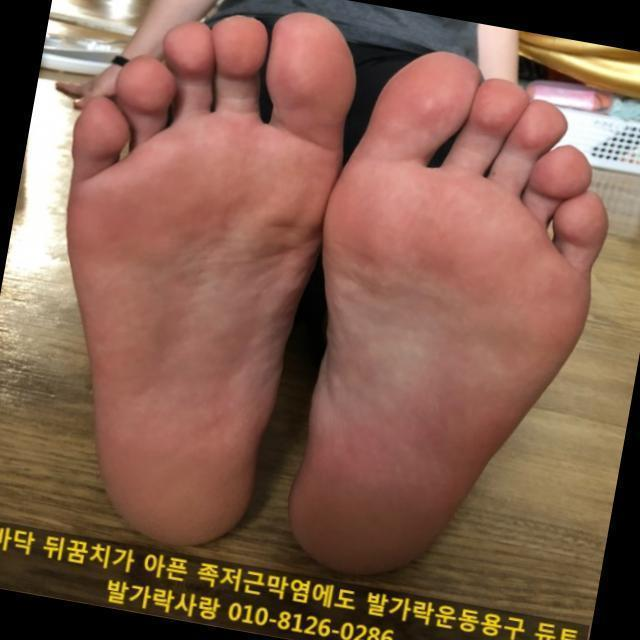No_Shoes: (55, 31, 611, 568)
